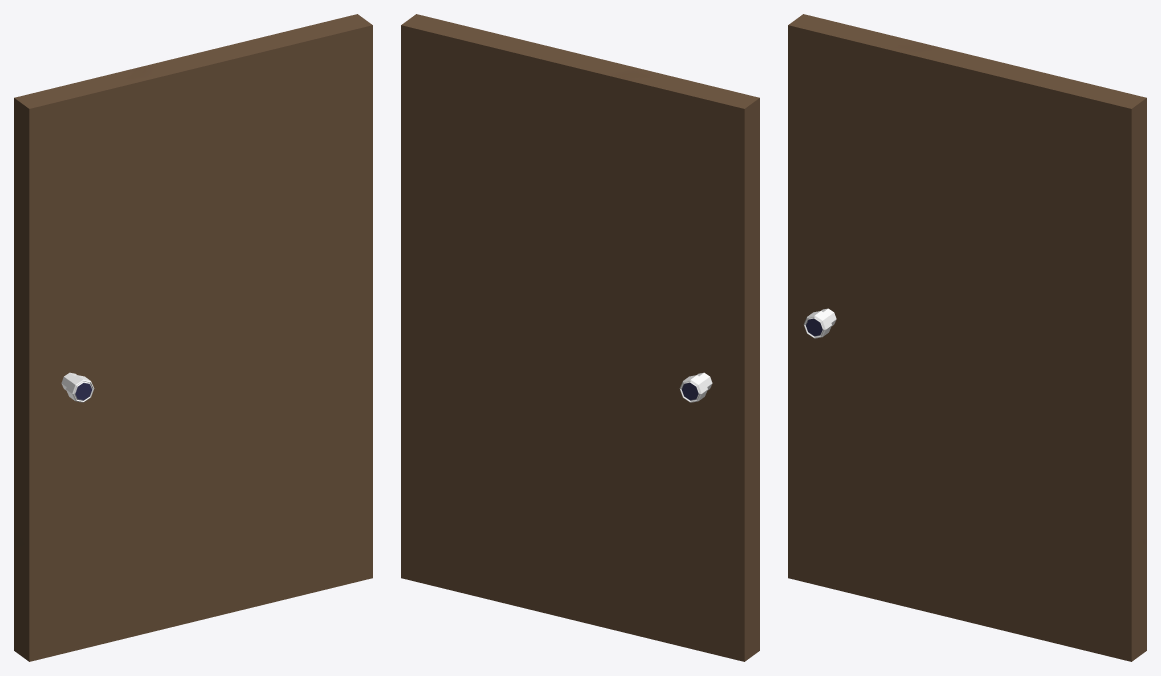
Rendered from 3D_RegularDoor.fbx.
3 renders of one model, left to right at view 1: azimuth 30°, elevation 25°; view 2: azimuth 150°, elevation 25°; view 3: azimuth 330°, elevation 25°, orthographic.
Visible parts, largest first — view 1: Cube; view 2: Cube; view 3: Cube.
Boxes of the visible parts, <box> form: Cube: <box>14,14,372,661</box>; Cube: <box>401,14,759,661</box>; Cube: <box>788,14,1146,661</box>.
Size of the model in its own units: 130 by 200 by 28.5.
1 material, 1 textured.
